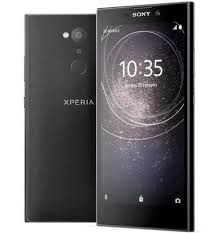sony: (93, 1, 198, 230)
